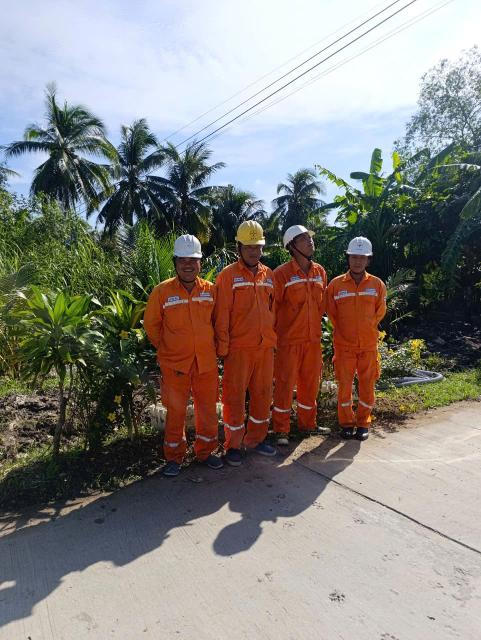helmet: (164, 229, 216, 262), (333, 229, 383, 259), (232, 218, 267, 252), (281, 223, 316, 249)
shoes: (246, 438, 281, 458), (196, 450, 226, 471), (269, 422, 292, 448), (301, 422, 338, 438), (221, 444, 245, 467), (355, 419, 375, 445), (159, 459, 183, 480), (338, 420, 358, 442)
